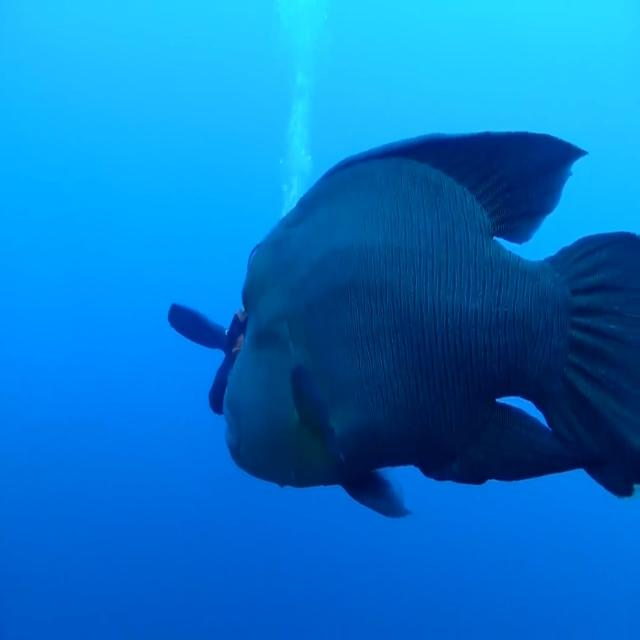Napoleon -Endangered-: (224, 134, 640, 516)
